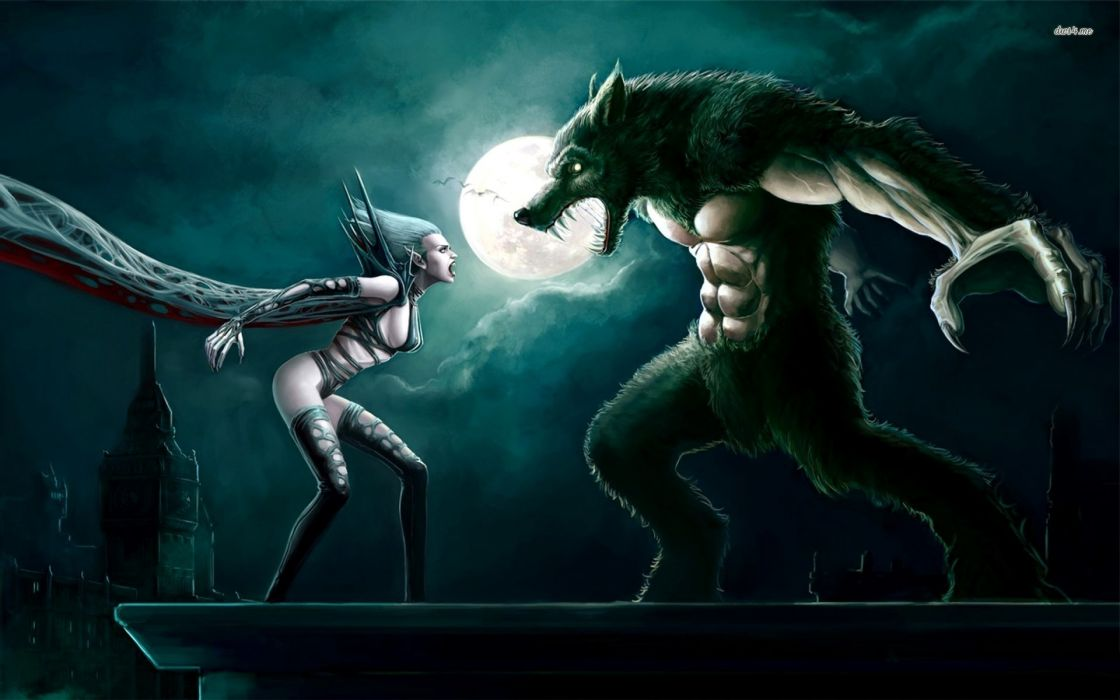Lobo: (505, 55, 767, 276)
